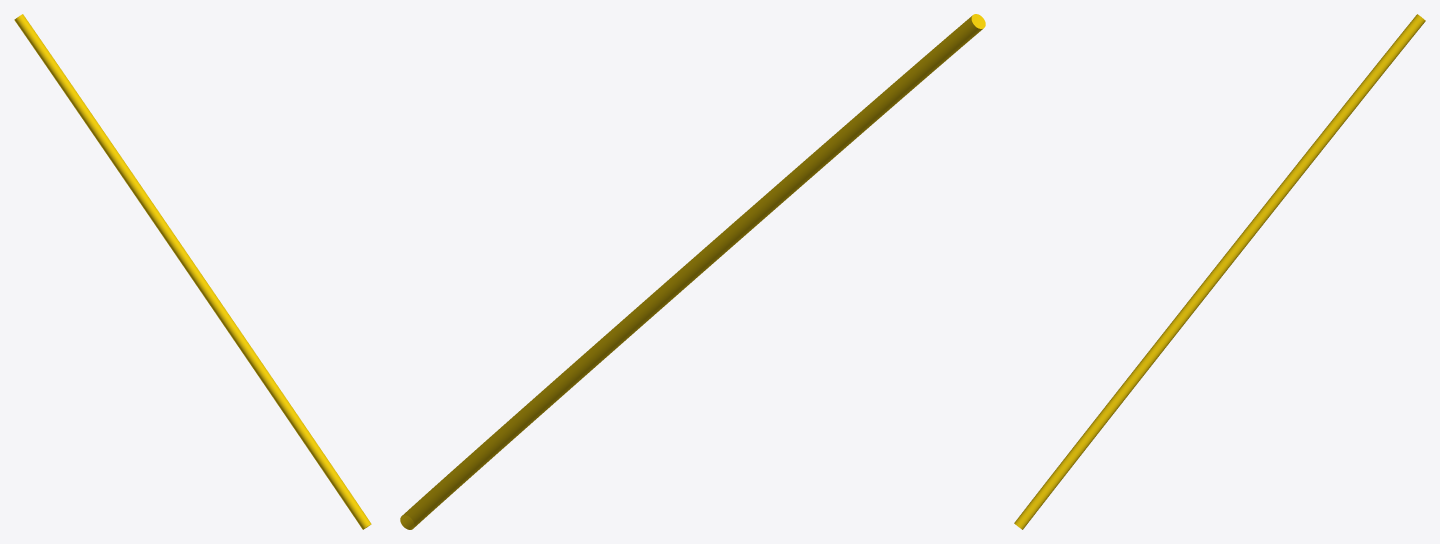
File: Event_420094457_track_16.fbx
3 views of the same model, side by side, from view 1: azimuth 30°, elevation 25°; view 2: azimuth 210°, elevation 25°; view 3: azimuth 270°, elevation 25° (orthographic). The views are drawn at different scales.
Visible parts, largest first — view 1: Model; view 2: Model; view 3: Model.
Part boxes in pixels (left/top/right/bottom): Model: left=14, top=14, right=371, bottom=529; Model: left=400, top=14, right=985, bottom=529; Model: left=1014, top=14, right=1425, bottom=529.
Size of the model in its own units: 0.7248 by 1.73 by 1.49.
